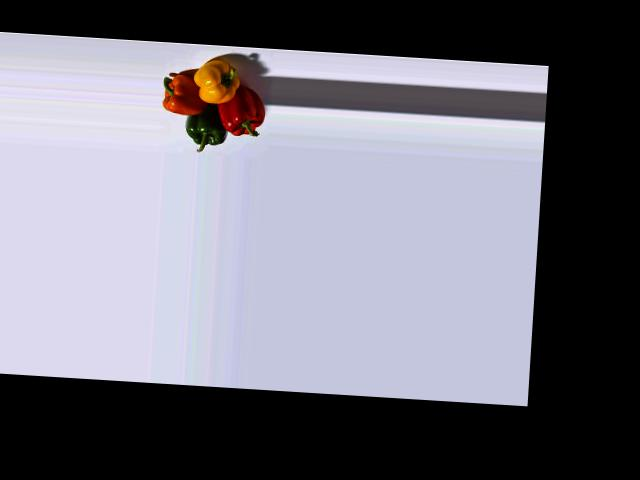bell_pepper: (216, 84, 268, 142)
